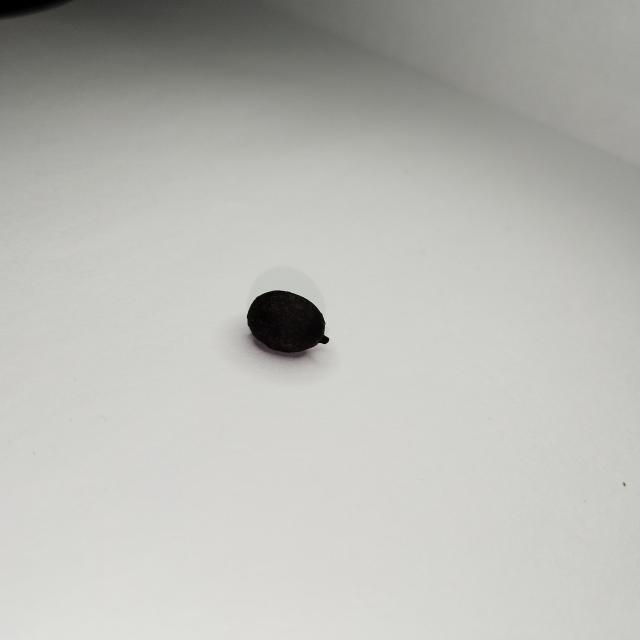Danado: (244, 286, 332, 359)
